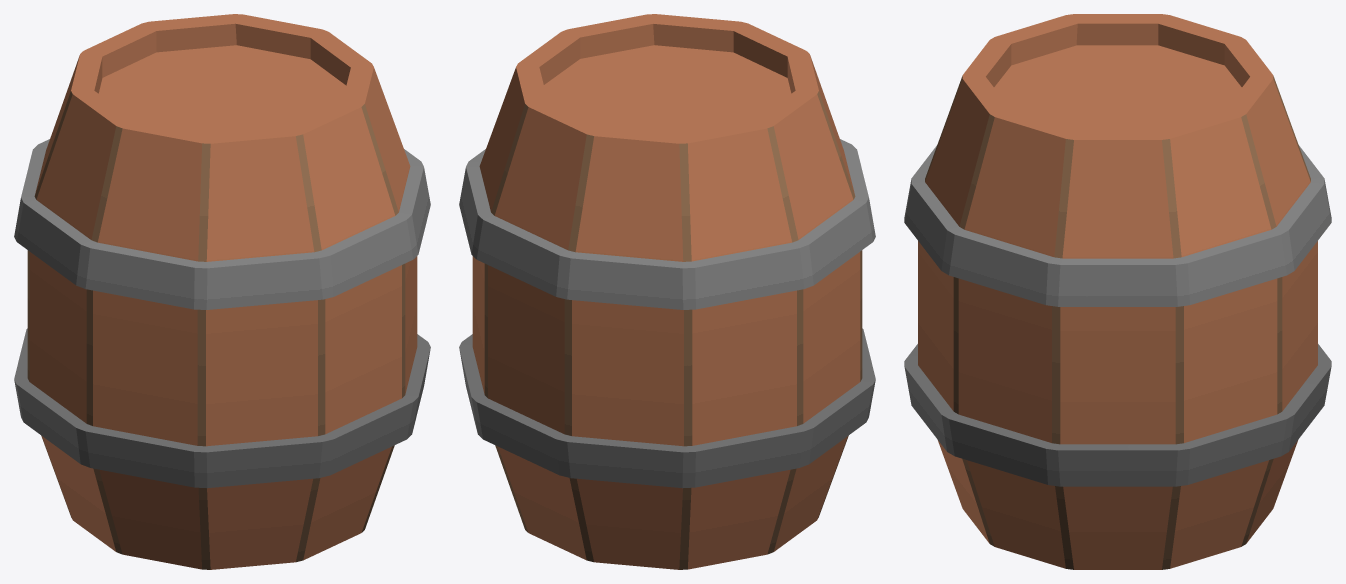
Rendered from barrel.glb.
3 renders of one model, left to right at view 1: azimuth 30°, elevation 25°; view 2: azimuth 150°, elevation 25°; view 3: azimuth 270°, elevation 25°, orthographic.
Parts seen in each view (by area): view 1: barrel; view 2: barrel; view 3: barrel.
Boxes of the visible parts, left/top/right/bottom form: barrel: left=14, top=14, right=430, bottom=569; barrel: left=459, top=14, right=875, bottom=569; barrel: left=904, top=14, right=1331, bottom=569.
Size of the model in its own units: 0.7782 by 0.9 by 0.8103.
1 material, 1 textured.
